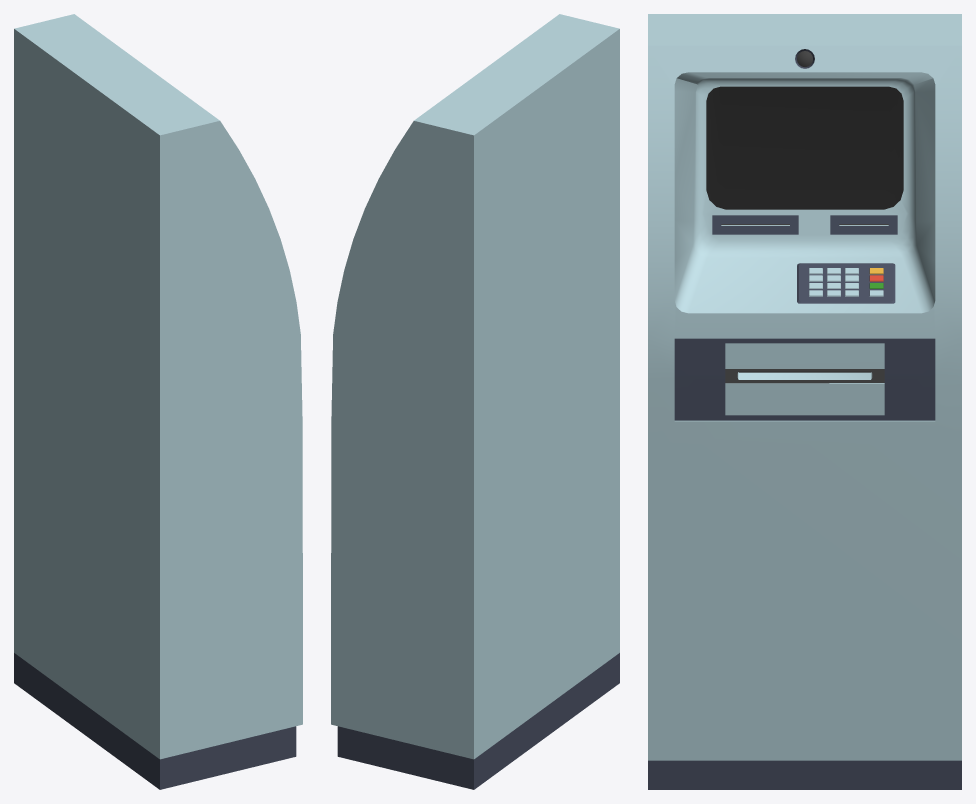
File: airport-self-checkin-kiosk.glb
3 renders of one model, left to right at view 1: azimuth 30°, elevation 25°; view 2: azimuth 150°, elevation 25°; view 3: azimuth 270°, elevation 25°, orthographic. The views are drawn at different scales.
Visible parts, largest first — view 1: 17.4.Model_AIRPORT_0; view 2: 17.4.Model_AIRPORT_0; view 3: 17.4.Model_AIRPORT_0.
Part boxes in pixels (<box>): 17.4.Model_AIRPORT_0: <box>14,14,302,789</box>; 17.4.Model_AIRPORT_0: <box>331,14,619,789</box>; 17.4.Model_AIRPORT_0: <box>648,14,961,789</box>.
Size of the model in its own units: 0.4003 by 1.75 by 0.7075.
Materials: 1 (1 with a texture image).
